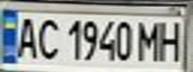0: (115, 18, 136, 62)
1: (60, 16, 84, 61)
4: (100, 17, 121, 62)
9: (78, 17, 100, 62)
A: (12, 14, 42, 61)
C: (33, 15, 60, 61)
H: (154, 17, 187, 62)
M: (136, 18, 163, 62)
